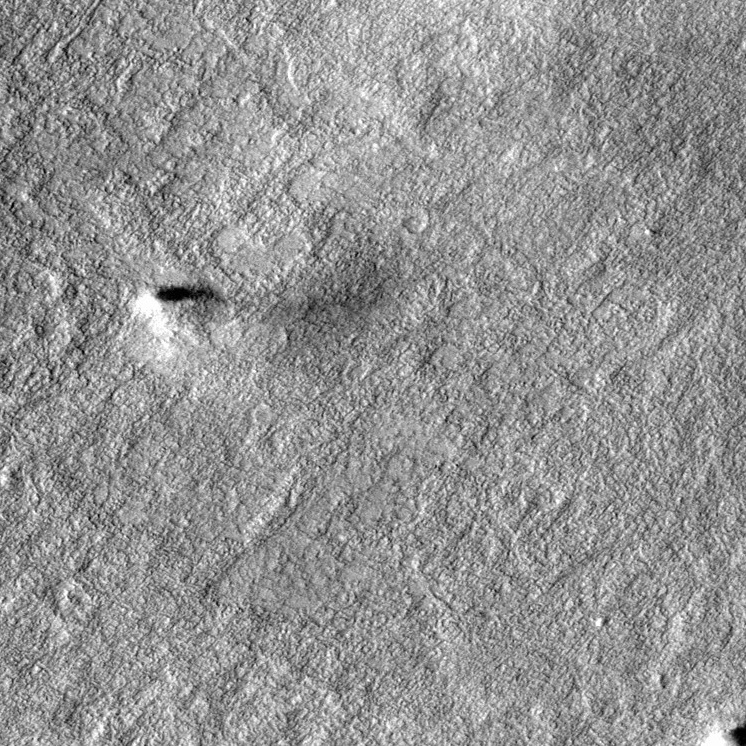dust_devil: (121, 276, 234, 344)
